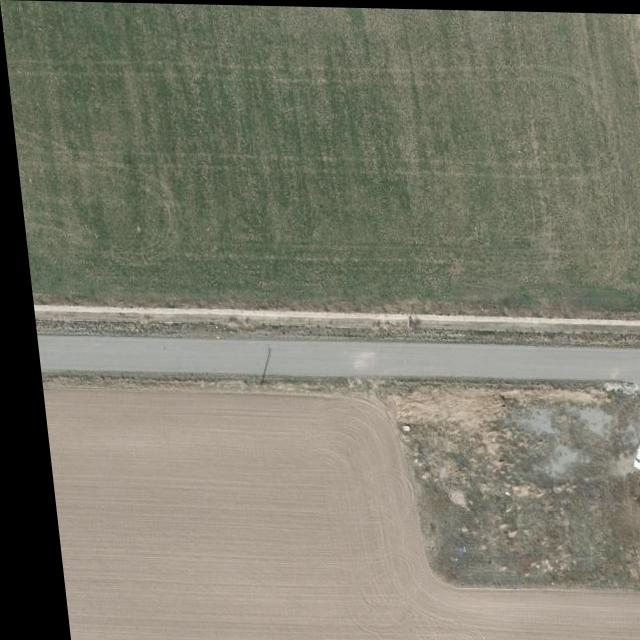vehicle: (618, 439, 640, 469)
